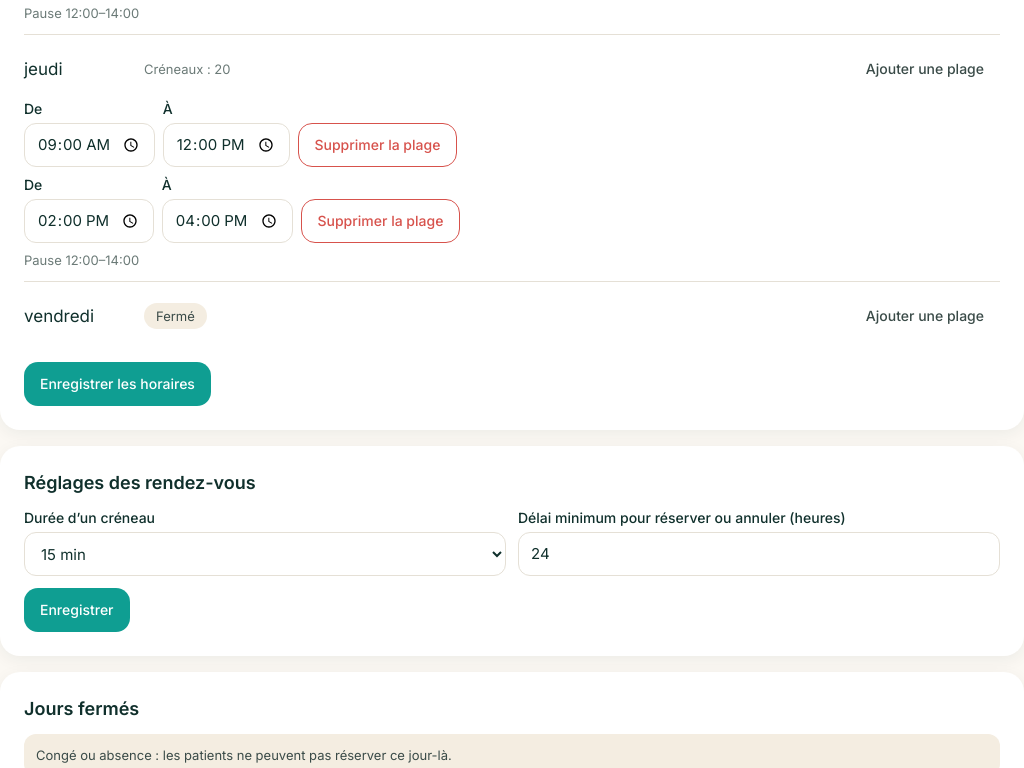
Test case: Availability page › explains a refusal from the server
The image size is (1024, 768).
(page scrolled)
What coordinates should you click on to do the following:
click the button "Enregistrer les horaires"
I would click on:
 (117, 384)
Its box is [24, 362, 211, 406].
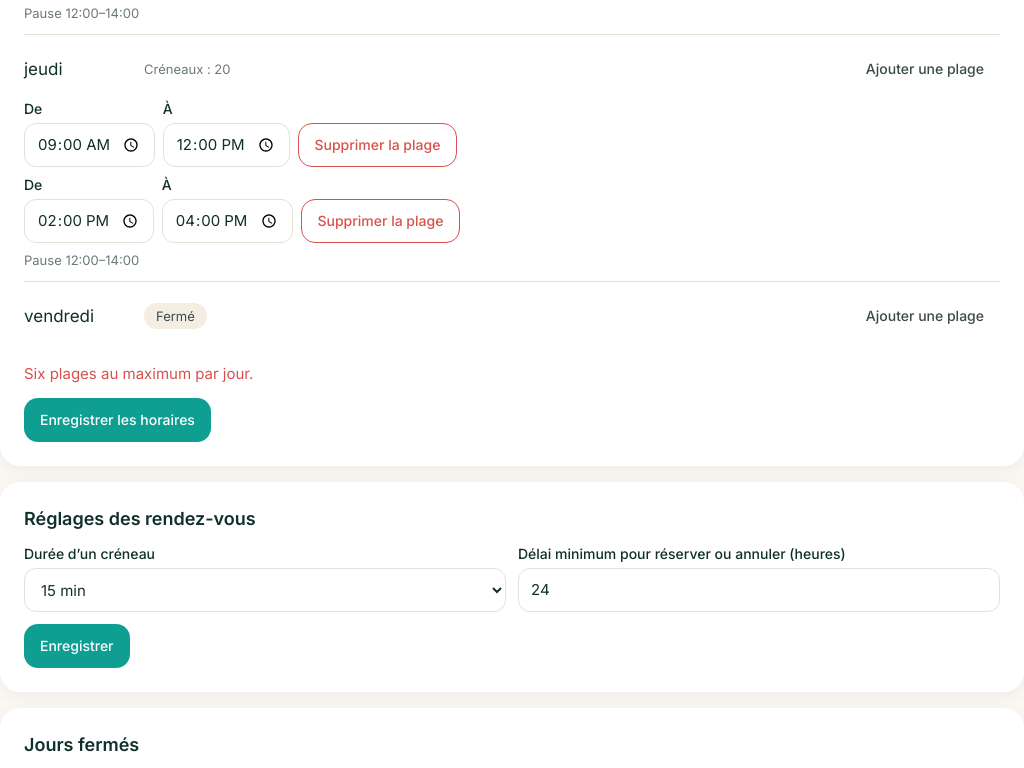
Check: the message reads "Six plages au maximum par jour.", box [24, 364, 253, 383]
